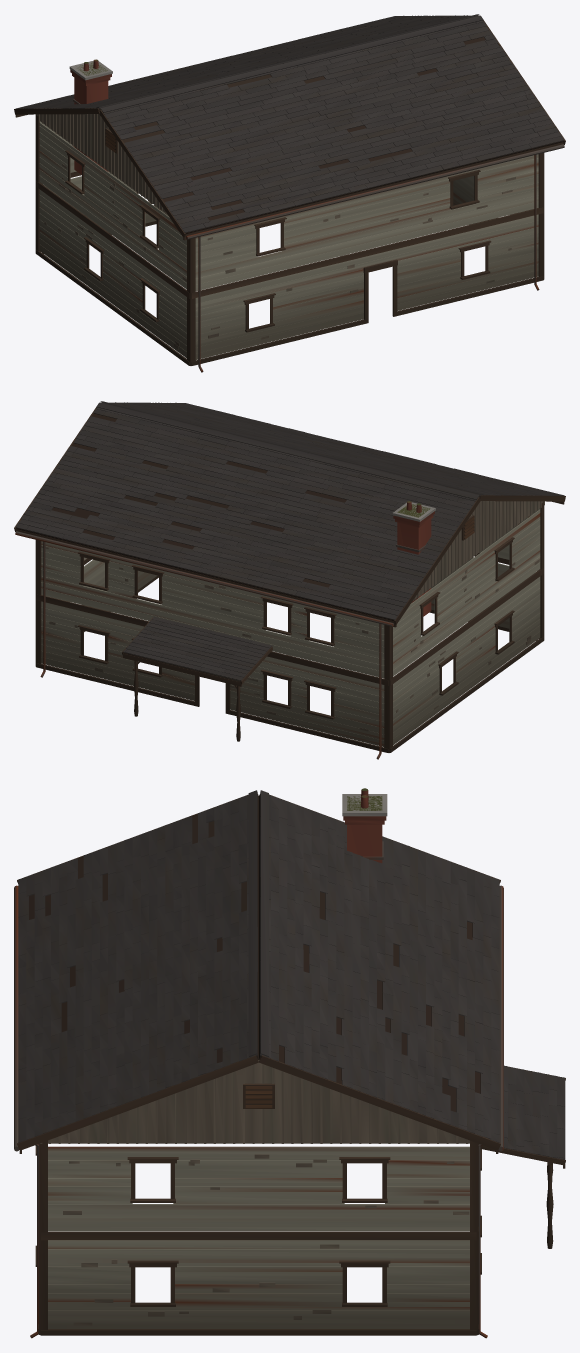
The model's file is CannibalFamilyMeshes3.glb.
The picture shows the model from 3 angles, top to bottom: view 1: azimuth 30°, elevation 25°; view 2: azimuth 150°, elevation 25°; view 3: azimuth 270°, elevation 25°; orthographic projection. The views are drawn at different scales.
Parts seen in each view (by area): view 1: FarmhouseExterior_shingle, FarmhouseExterior_clapboard_farm, FarmhouseExterior_trim, FarmhouseExterior_siding, FarmhouseExterior_iron, FarmhouseExterior_roof_deck, FarmhouseExterior_brick, FarmhouseExterior_concrete; view 2: FarmhouseExterior_shingle, FarmhouseExterior_clapboard_farm, FarmhouseExterior_trim, FarmhouseExterior_siding, FarmhouseExterior_roof_deck, FarmhouseExterior_iron, FarmhouseExterior_brick; view 3: FarmhouseExterior_shingle, FarmhouseExterior_clapboard_farm, FarmhouseExterior_trim, FarmhouseExterior_siding, FarmhouseExterior_roof_deck, FarmhouseExterior_iron, FarmhouseExterior_brick, FarmhouseExterior_concrete.
Part boxes in pixels (<box>): FarmhouseExterior_shingle: <box>15,14,564,232</box>; FarmhouseExterior_clapboard_farm: <box>39,121,538,359</box>; FarmhouseExterior_trim: <box>14,15,565,365</box>; FarmhouseExterior_siding: <box>36,114,515,349</box>; FarmhouseExterior_iron: <box>42,99,564,372</box>; FarmhouseExterior_roof_deck: <box>99,37,563,234</box>; FarmhouseExterior_brick: <box>70,59,111,174</box>; FarmhouseExterior_concrete: <box>69,60,112,80</box>; FarmhouseExterior_shingle: <box>15,401,564,680</box>; FarmhouseExterior_clapboard_farm: <box>41,508,540,746</box>; FarmhouseExterior_trim: <box>14,402,565,752</box>; FarmhouseExterior_siding: <box>41,501,544,731</box>; FarmhouseExterior_roof_deck: <box>16,413,480,681</box>; FarmhouseExterior_iron: <box>15,531,537,759</box>; FarmhouseExterior_brick: <box>393,501,434,616</box>; FarmhouseExterior_shingle: <box>18,790,565,1159</box>; FarmhouseExterior_clapboard_farm: <box>48,1146,469,1328</box>; FarmhouseExterior_trim: <box>17,795,565,1335</box>; FarmhouseExterior_siding: <box>40,1060,469,1325</box>; FarmhouseExterior_roof_deck: <box>29,794,480,1111</box>; FarmhouseExterior_iron: <box>14,841,503,1338</box>; FarmhouseExterior_brick: <box>343,788,386,863</box>; FarmhouseExterior_concrete: <box>342,794,387,816</box>.
Size of the model in its own units: 70.85 by 39.67 by 62.58.
